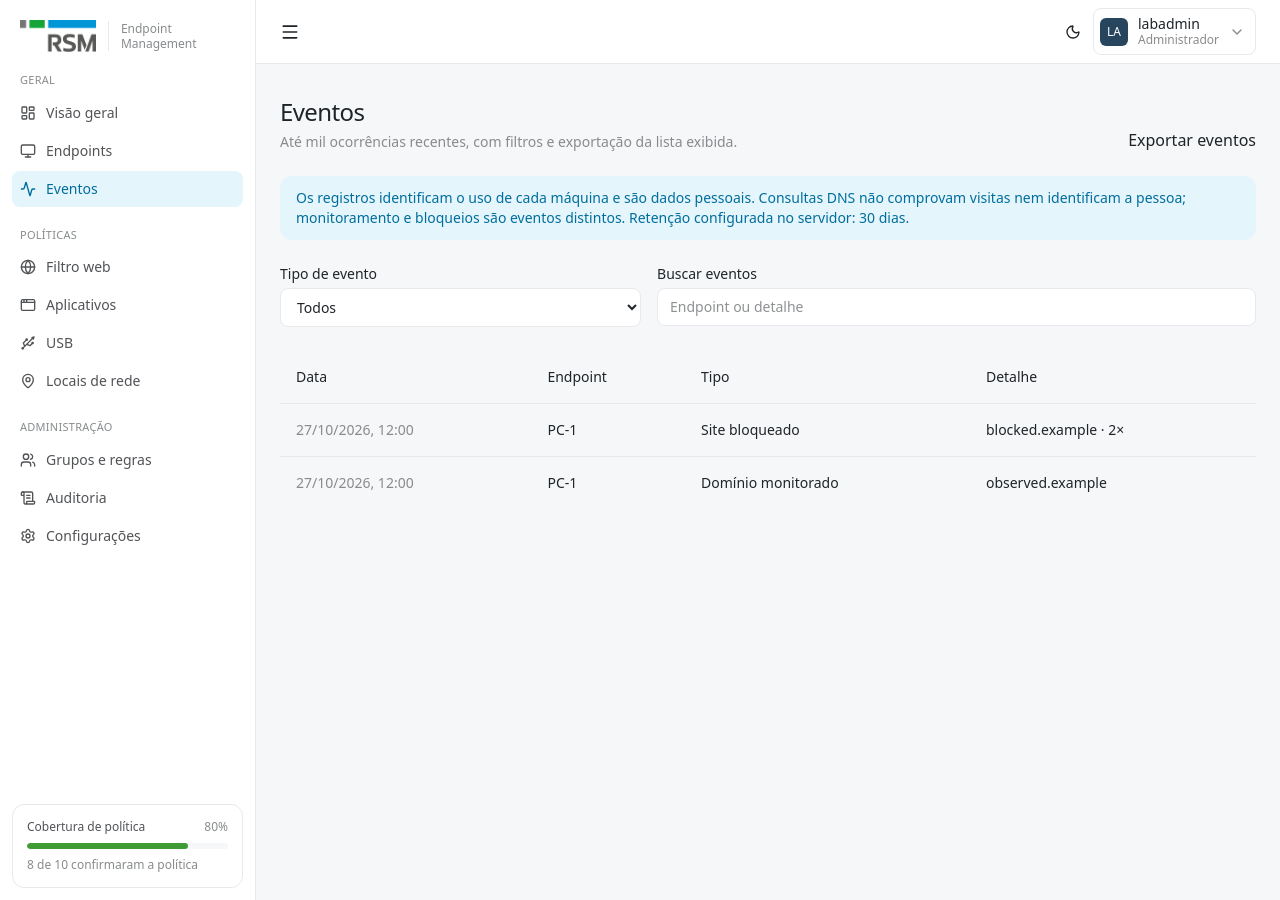
distinguishes monitored domains from blocks and filters monitoring separately
This screenshot has width=1280, height=900.
Expected: the text "observed.example" is shown, [970,456,1256,509]
Expected: the text "Domínio monitorado" is shown, [685,456,970,509]
Select "Domínio monitorado" in the dropdown labelled "Tipo de evento" at (461, 308), box [280,288,641,327]
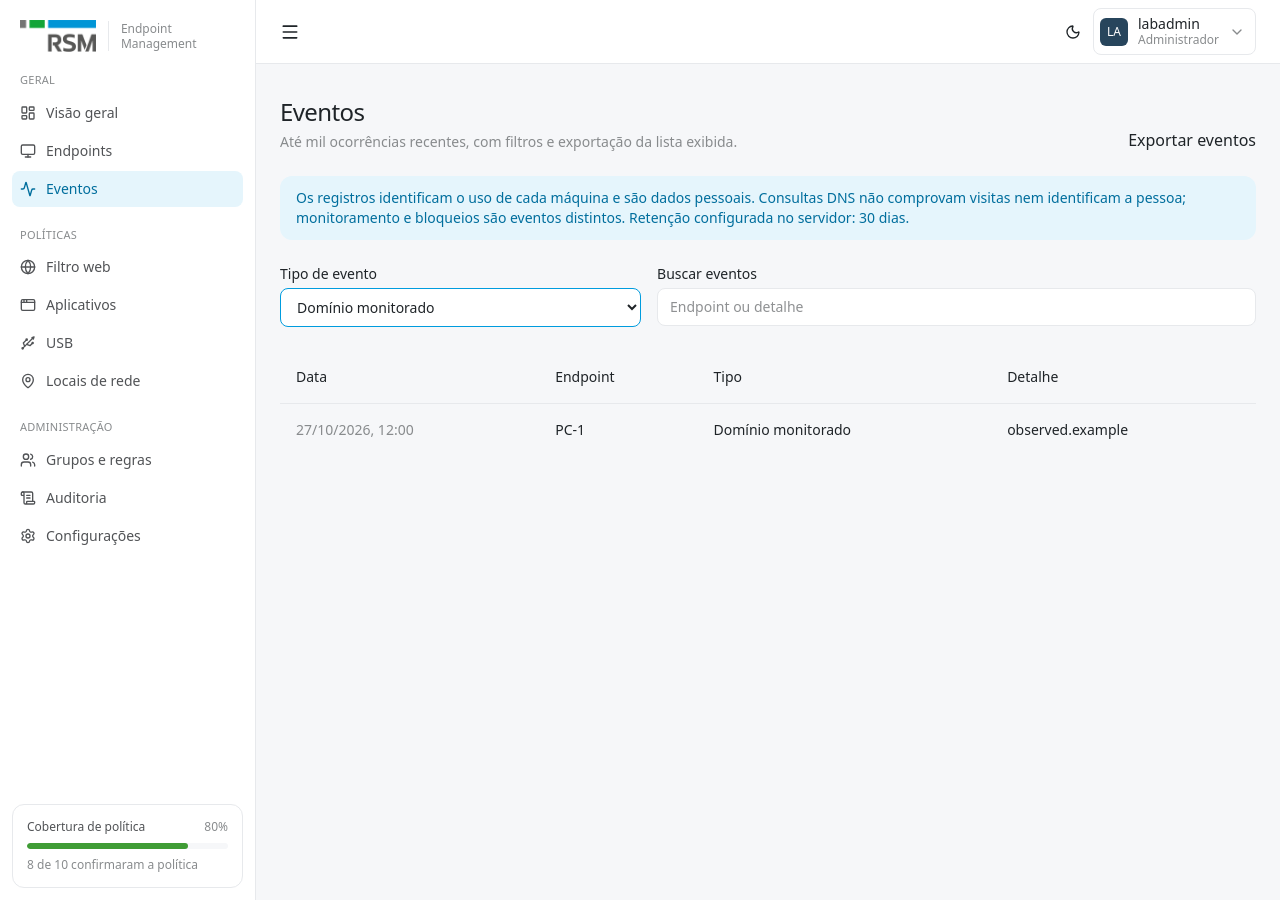
Expected: the text "observed.example" is shown, [991,404,1256,456]
Expected: the text "blocked.example" is gone
